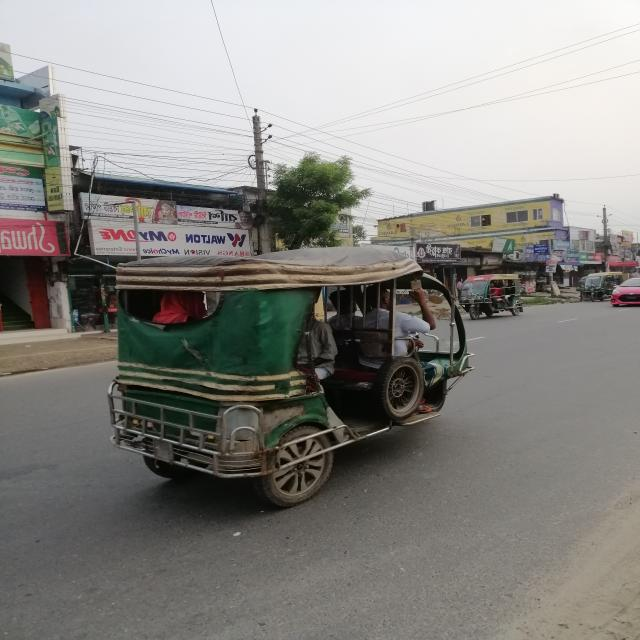Easybike: (112, 244, 474, 509)
